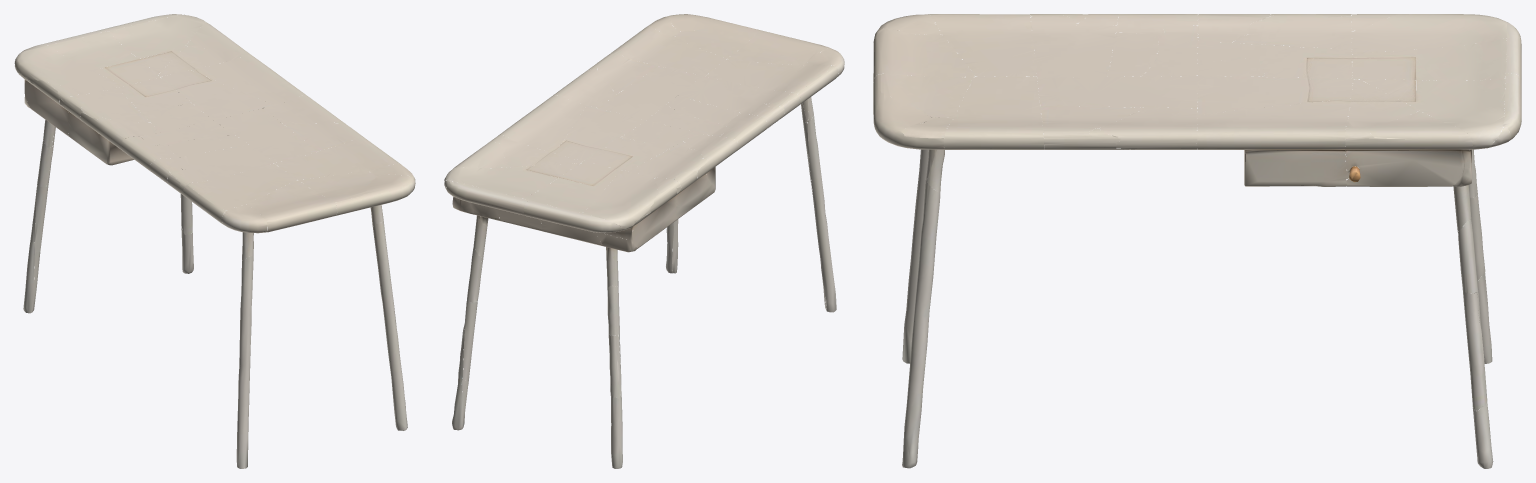
Rendered from desk-tripo.glb.
The picture shows the model from 3 angles, left to right: view 1: azimuth 30°, elevation 25°; view 2: azimuth 150°, elevation 25°; view 3: azimuth 270°, elevation 25°; orthographic projection. The views are drawn at different scales.
Visible parts, largest first — view 1: tripo_node_6f3c8b1f-23b4-4a0d-91c9-31aa9742dfbd; view 2: tripo_node_6f3c8b1f-23b4-4a0d-91c9-31aa9742dfbd; view 3: tripo_node_6f3c8b1f-23b4-4a0d-91c9-31aa9742dfbd.
Part boxes in pixels (x1,y1,x2,y2): tripo_node_6f3c8b1f-23b4-4a0d-91c9-31aa9742dfbd: (14, 14, 415, 468); tripo_node_6f3c8b1f-23b4-4a0d-91c9-31aa9742dfbd: (444, 14, 844, 468); tripo_node_6f3c8b1f-23b4-4a0d-91c9-31aa9742dfbd: (873, 14, 1521, 468).
Size of the model in its own units: 0.4735 by 0.5813 by 0.9999.
1 material, 1 textured.
